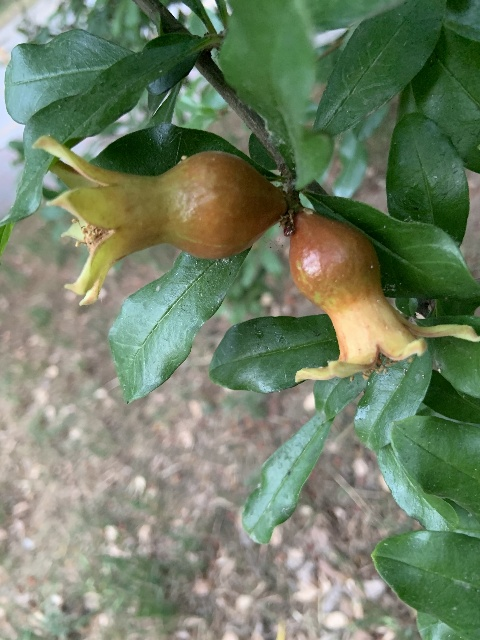early-fruit: (35, 141, 286, 304), (289, 212, 479, 384)
